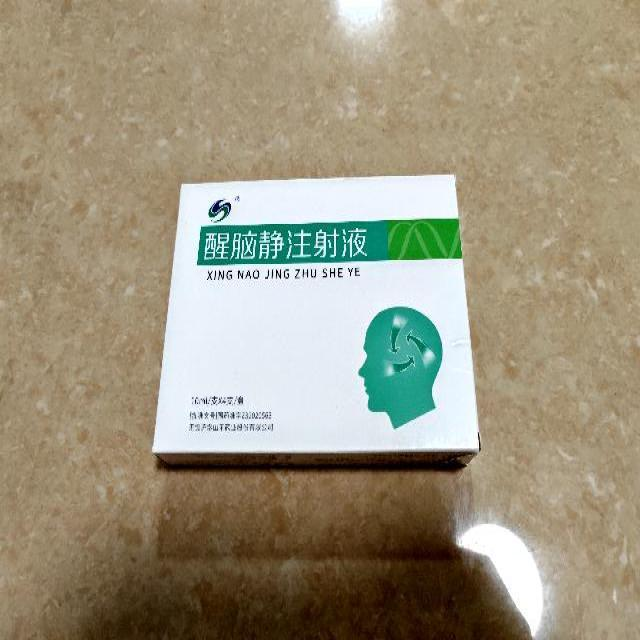box: (154, 172, 480, 468)
